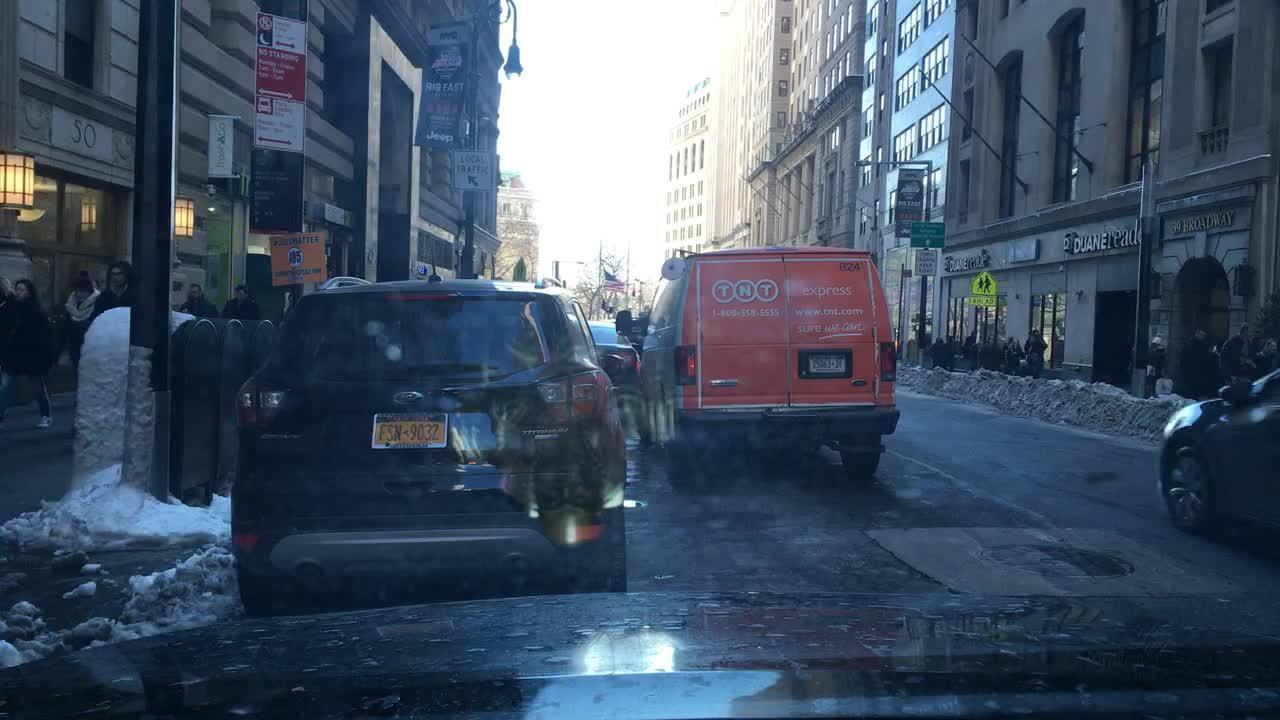ford: (390, 389, 428, 408), (850, 376, 870, 392)
